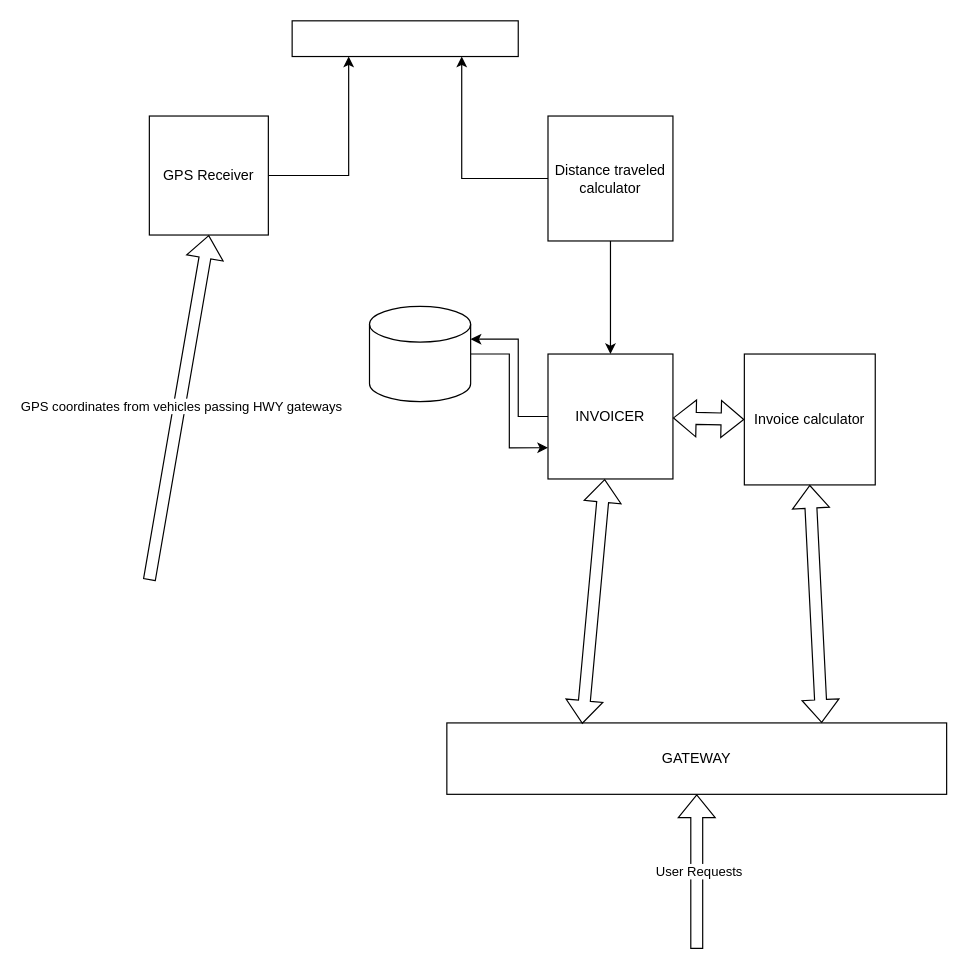
This 967x970 diagram has some shape labels left out. Each missing label, with the box of its shape:
Invoices DB: (368, 305, 471, 402)
Kafka topic: (291, 20, 518, 57)
